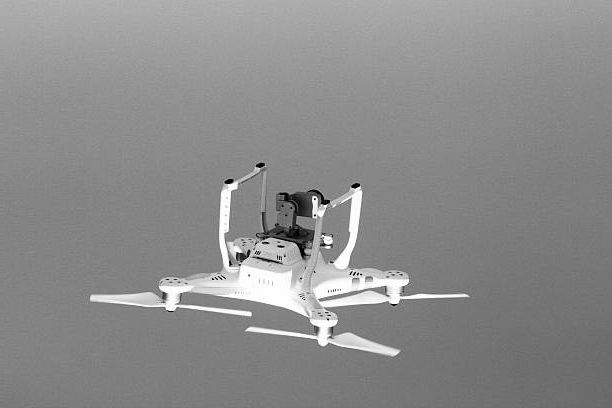Drone: (84, 154, 474, 361)
